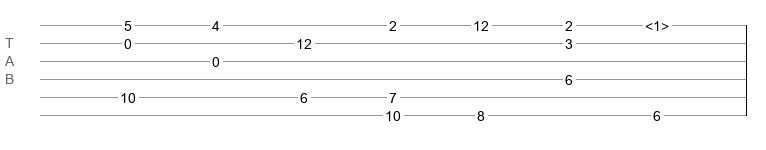0: (124, 36, 132, 46), (212, 54, 220, 64)
10: (120, 90, 136, 100), (385, 108, 401, 118)
12: (296, 36, 312, 46), (473, 18, 489, 28)
2: (389, 18, 397, 28), (565, 18, 573, 28)
3: (565, 36, 573, 46)
4: (212, 18, 220, 28)
5: (124, 18, 132, 28)
6: (300, 90, 308, 100), (565, 72, 573, 82), (653, 108, 661, 118)
7: (389, 90, 397, 100)
8: (477, 108, 485, 118)
harmonic: (645, 18, 669, 28)
